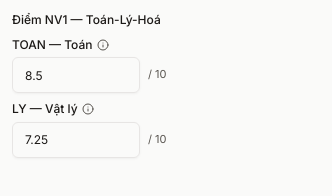
Test: ChoiceScoreCard › server error after blur shows error toast + reverts local state
Replace the text in the number field with test id "score-input-11" with "9.0": coordinates (76, 75) [12,57,140,93]
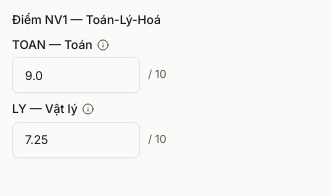
Leave the number field with test id "score-input-11", box [12,57,140,93]
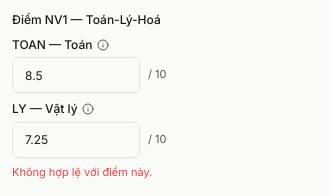
Check: the message "Không hợp lệ với điểm này." is shown, box [12,164,152,178]
Check: the number field with test id "score-input-11" holds "8.5", box [12,57,140,93]
